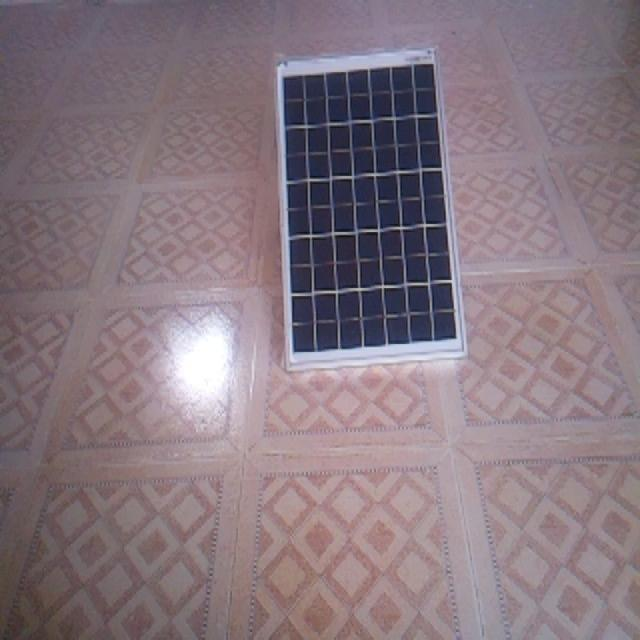Normal Solar Panel: (278, 50, 466, 367)
